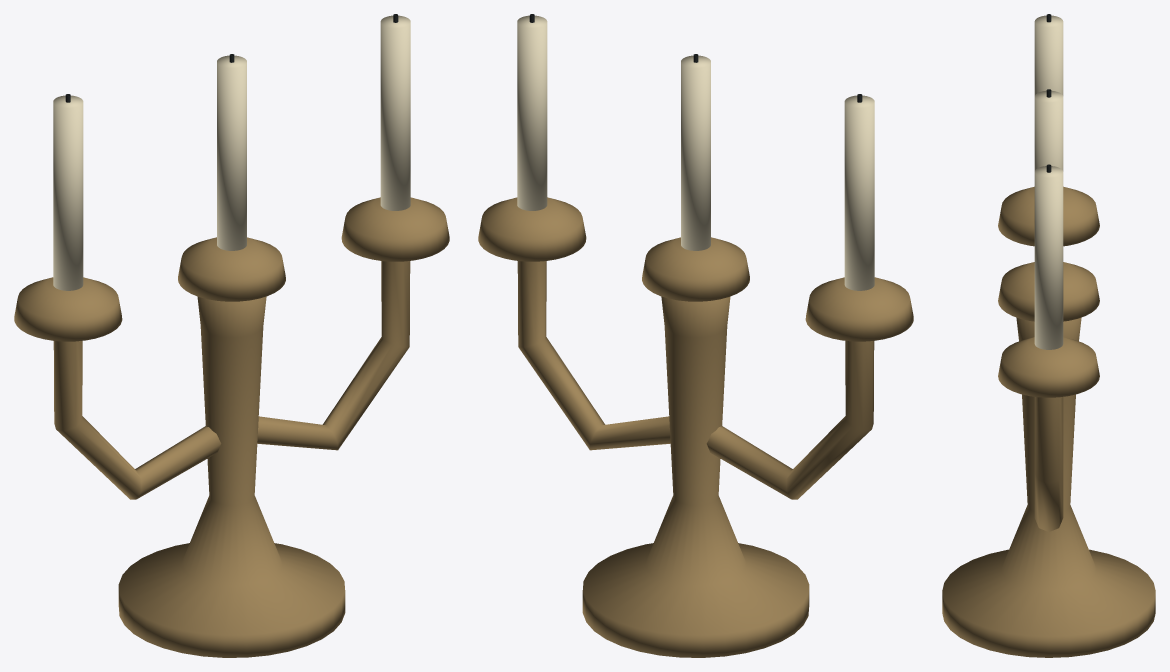
The model's file is Candelabra.fbx.
3 renders of one model, left to right at view 1: azimuth 30°, elevation 25°; view 2: azimuth 150°, elevation 25°; view 3: azimuth 270°, elevation 25°, orthographic. The views are drawn at different scales.
Parts seen in each view (by area): view 1: Candelabra stem.001, Candle branch.005, Candle branch.003, Unlit candle.003, Unlit candle.005, Unlit candle.004, Candle socket.005, Candle socket.003, Candle socket.004; view 2: Candelabra stem.001, Candle branch.005, Candle branch.003, Unlit candle.003, Unlit candle.005, Unlit candle.004, Candle socket.005, Candle socket.003, Candle socket.004; view 3: Candelabra stem.001, Unlit candle.005, Candle socket.005, Candle branch.005, Candle socket.003, Candle socket.004, Unlit candle.004, Unlit candle.003.
Boxes of the visible parts, bbox=[...] form: Candelabra stem.001: bbox=[118, 296, 345, 657]; Candle branch.005: bbox=[257, 261, 410, 450]; Candle branch.003: bbox=[53, 341, 221, 499]; Unlit candle.003: bbox=[53, 95, 83, 290]; Unlit candle.005: bbox=[380, 15, 410, 210]; Unlit candle.004: bbox=[217, 55, 246, 250]; Candle socket.005: bbox=[341, 197, 449, 261]; Candle socket.003: bbox=[14, 277, 122, 341]; Candle socket.004: bbox=[178, 237, 285, 301]; Candelabra stem.001: bbox=[582, 296, 809, 657]; Candle branch.005: bbox=[517, 261, 670, 450]; Candle branch.003: bbox=[706, 341, 874, 499]; Unlit candle.003: bbox=[844, 95, 874, 290]; Unlit candle.005: bbox=[517, 15, 547, 210]; Unlit candle.004: bbox=[681, 55, 710, 250]; Candle socket.005: bbox=[478, 197, 586, 261]; Candle socket.003: bbox=[805, 277, 913, 341]; Candle socket.004: bbox=[642, 237, 749, 301]; Candelabra stem.001: bbox=[942, 317, 1155, 657]; Unlit candle.005: bbox=[1034, 166, 1063, 349]; Candle socket.005: bbox=[998, 337, 1099, 397]; Candle branch.005: bbox=[1034, 397, 1063, 531]; Candle socket.003: bbox=[998, 186, 1099, 246]; Candle socket.004: bbox=[998, 262, 1099, 321]; Unlit candle.004: bbox=[1034, 90, 1063, 171]; Unlit candle.003: bbox=[1034, 15, 1063, 95].
Bounding box in the file's own units: 0.386 × 0.486 × 0.18.
